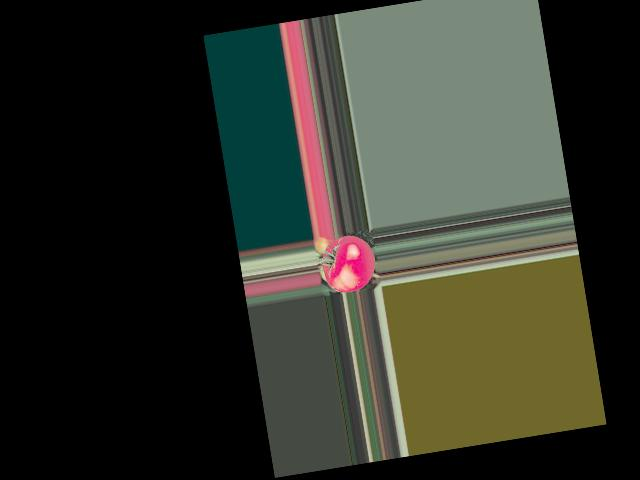tomato: (319, 232, 379, 295)
